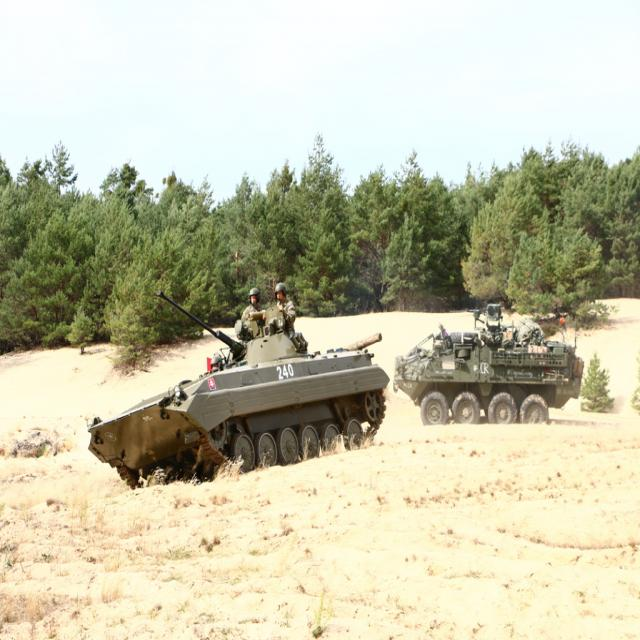tank: (86, 289, 389, 490), (395, 300, 586, 426)
